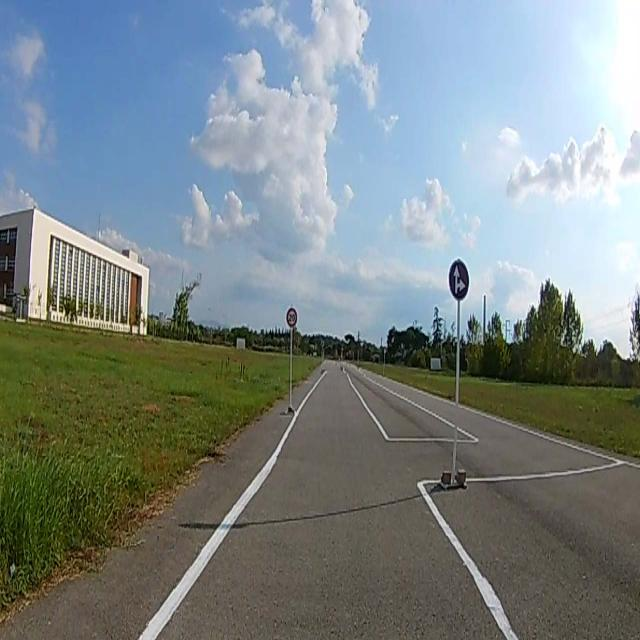20: (286, 308, 298, 326)
ilerisag: (449, 260, 470, 298)
